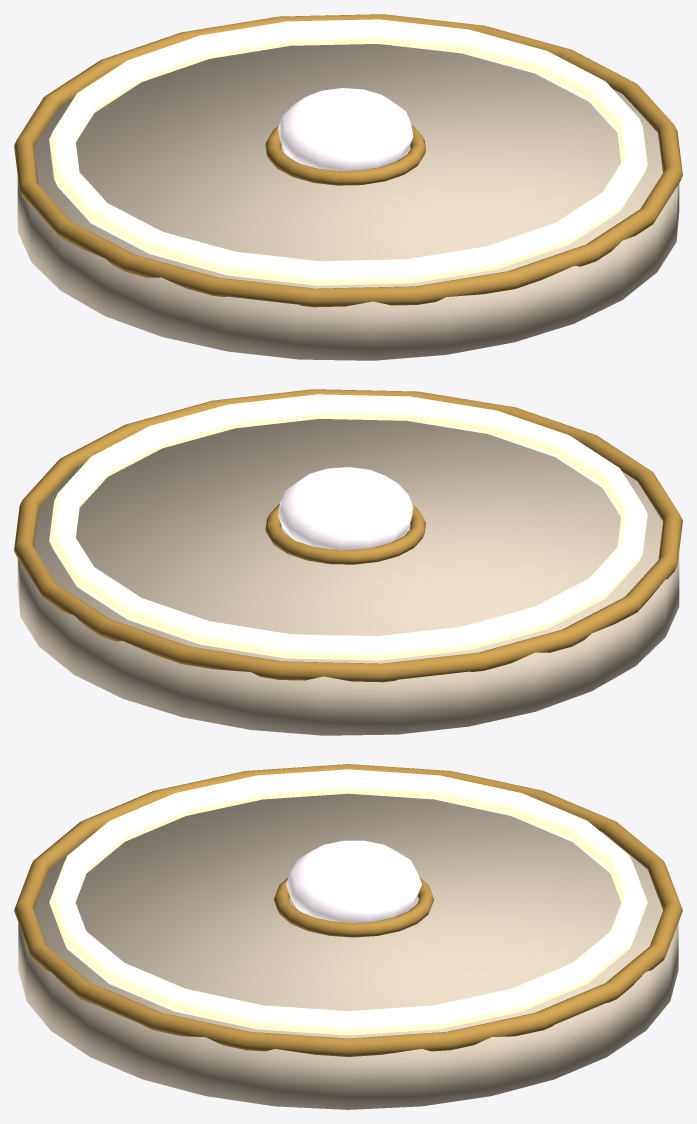
File: opera_ballerina_tile_3.glb
The picture shows the model from 3 angles, top to bottom: view 1: azimuth 30°, elevation 25°; view 2: azimuth 150°, elevation 25°; view 3: azimuth 270°, elevation 25°; orthographic projection.
Visible parts, largest first — view 1: VisualMesh.003, GlowRing.003; view 2: VisualMesh.003, GlowRing.003; view 3: VisualMesh.003, GlowRing.003.
Part boxes in pixels (x1,y1,x2,y2): VisualMesh.003: (14, 14, 682, 360); GlowRing.003: (49, 19, 647, 285); VisualMesh.003: (14, 389, 682, 735); GlowRing.003: (49, 394, 647, 660); VisualMesh.003: (14, 764, 682, 1109); GlowRing.003: (49, 769, 647, 1035).
Bounding box in the file's own units: 6.08 × 1.2 × 6.08.
